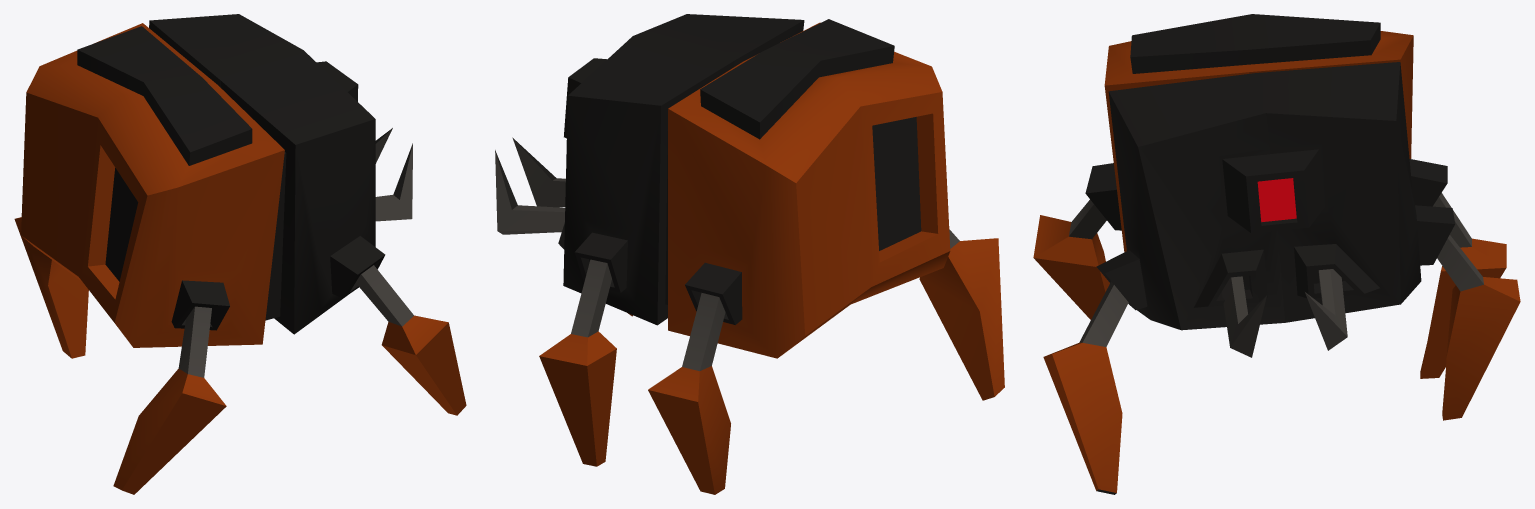
The model's file is SPIDBOT1.obj.
The picture shows the model from 3 angles, left to right: view 1: azimuth 30°, elevation 25°; view 2: azimuth 150°, elevation 25°; view 3: azimuth 270°, elevation 25°; orthographic projection. The views are drawn at different scales.
Parts seen in each view (by area): view 1: Cube.001; view 2: Cube.001; view 3: Cube.001.
Boxes of the visible parts, left/top/right/bottom form: Cube.001: left=14, top=14, right=466, bottom=494; Cube.001: left=495, top=14, right=1004, bottom=494; Cube.001: left=1033, top=14, right=1520, bottom=494.
Size of what is drawn, in the model's own units: 3.18 by 2.8 by 3.43.
